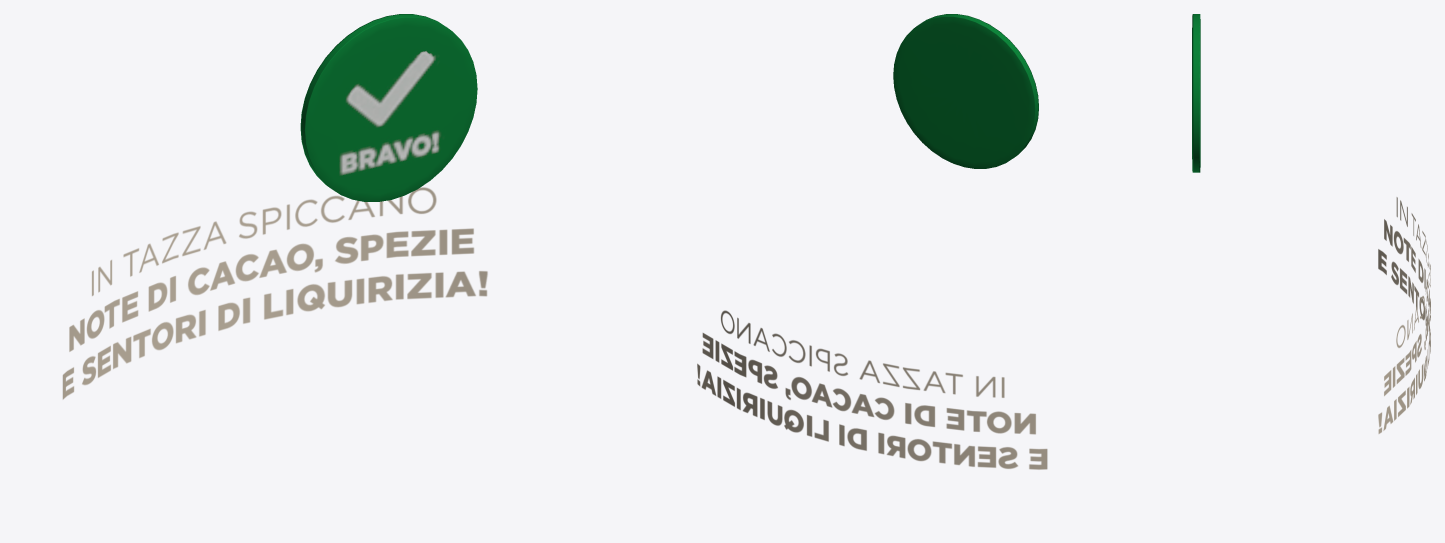
File: India_Correct.glb
3 renders of one model, left to right at view 1: azimuth 30°, elevation 25°; view 2: azimuth 150°, elevation 25°; view 3: azimuth 270°, elevation 25°, orthographic. The views are drawn at different scales.
Visible parts, largest first — view 1: bravo_coin_low, india_text; view 2: bravo_coin_low, india_text; view 3: india_text, bravo_coin_low.
Boxes of the visible parts, left/top/right/bottom form: bravo_coin_low: left=300, top=14, right=477, bottom=201; india_text: left=62, top=187, right=487, bottom=399; bravo_coin_low: left=893, top=14, right=1038, bottom=168; india_text: left=697, top=310, right=1047, bottom=469; india_text: left=1378, top=197, right=1430, bottom=433; bravo_coin_low: left=1192, top=14, right=1200, bottom=172.
Bounding box in the file's own units: 1.53 × 1.15 × 0.6434.
2 materials, 2 textured.
